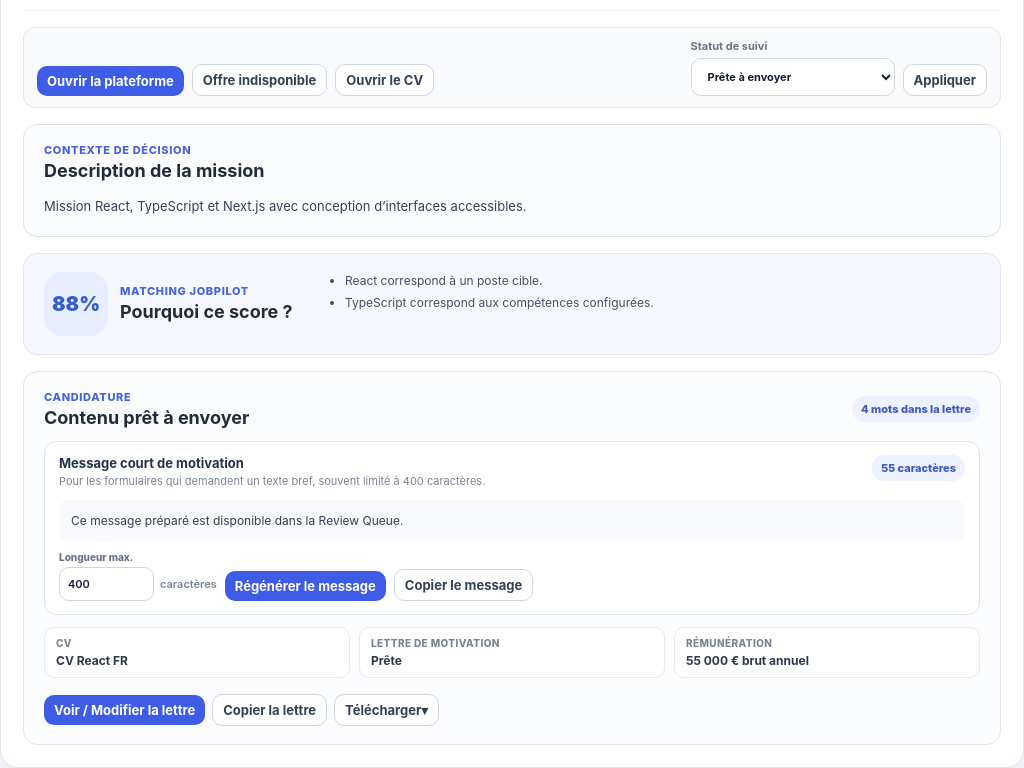
Test: ReviewQueueApplicationCard › cancels an unsaved cover letter edit in the drawer
(page scrolled)
Click the button "Voir / Modifier la lettre": [125, 710] box left=44, top=695, right=205, bottom=725
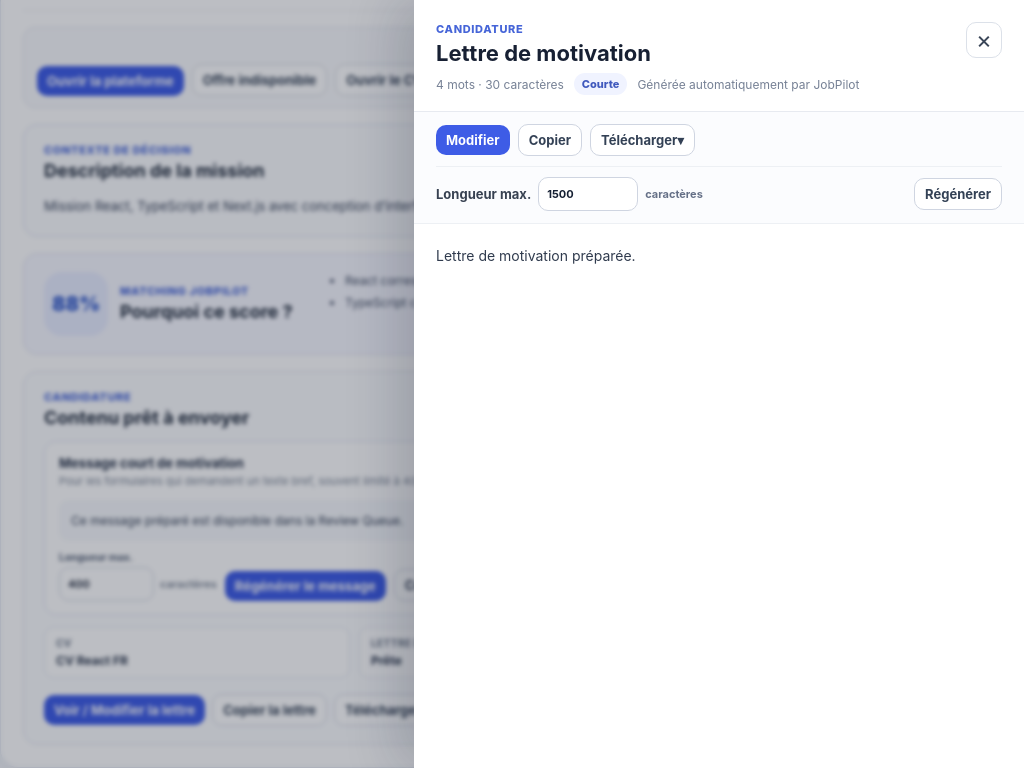
Click the button "Modifier": [473, 140] box left=436, top=125, right=510, bottom=155
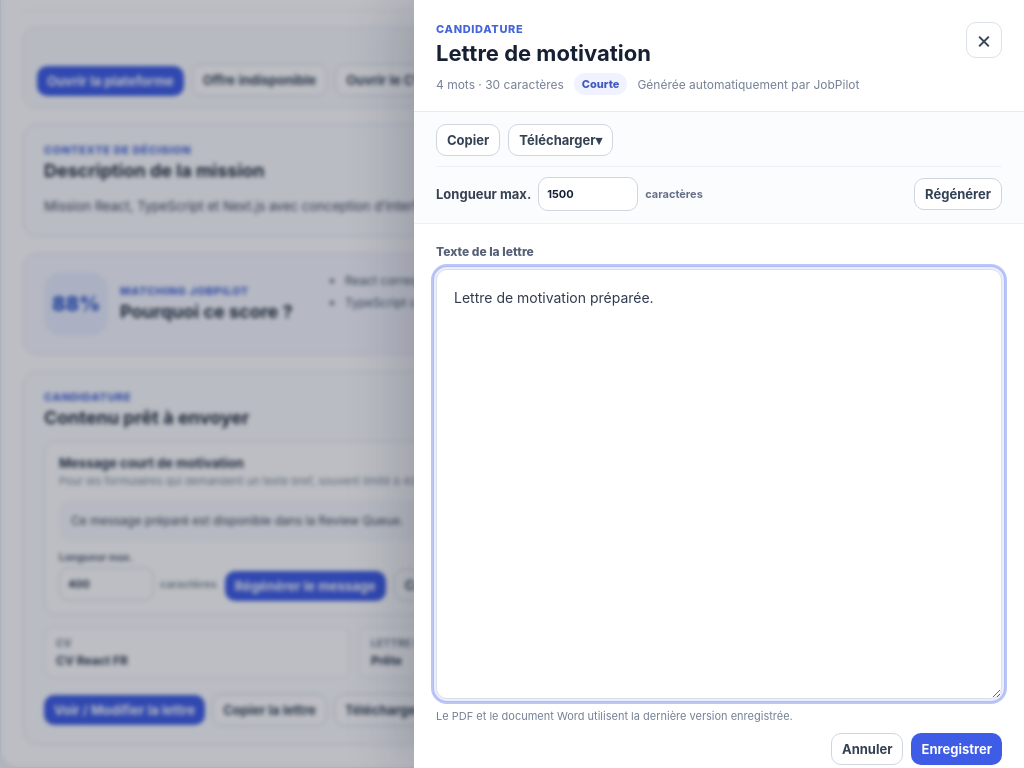
Replace the text in the text box labelled "Texte de la lettre" with "Brouillon non sauvegardé.": [719, 484] box left=436, top=269, right=1002, bottom=699
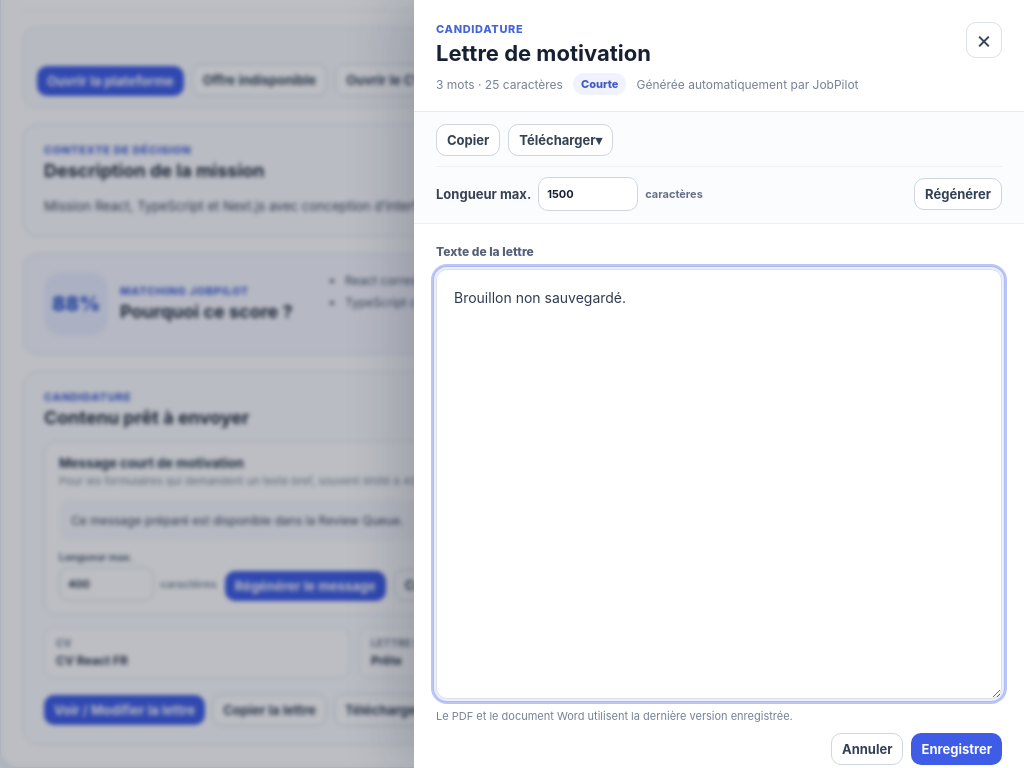
Click the button "Annuler": [867, 749] box left=831, top=733, right=903, bottom=765
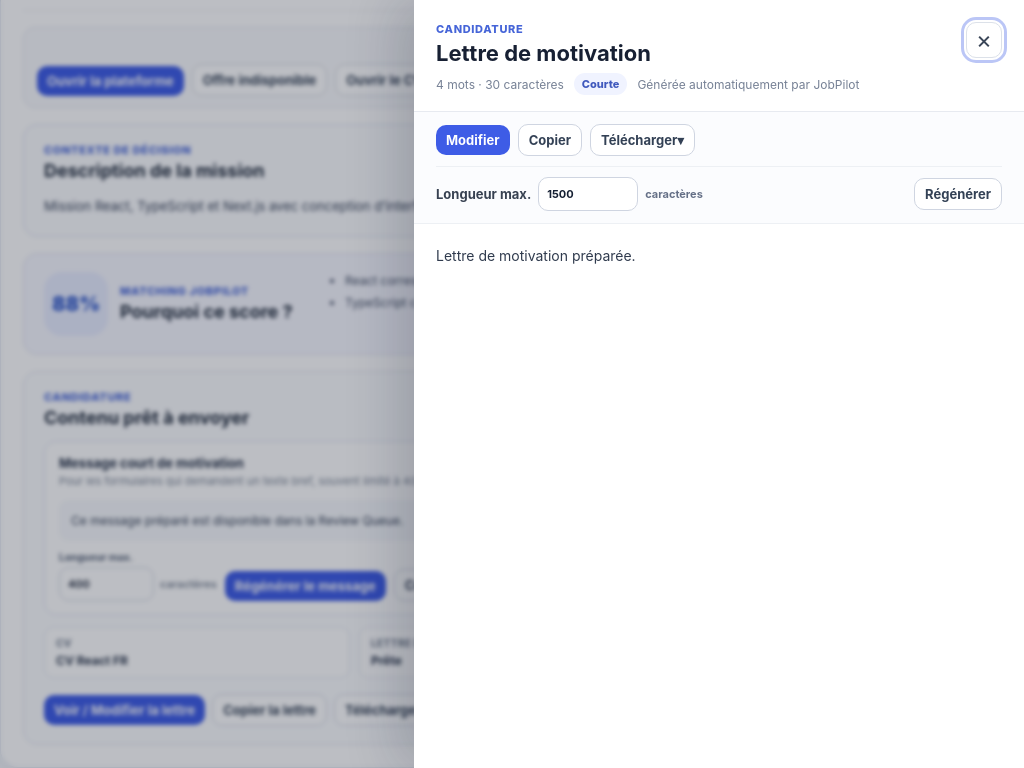
Result: the label "Texte de la lettre" is gone
Result: the text "Lettre de motivation préparée." is shown at left=436, top=247, right=636, bottom=264
